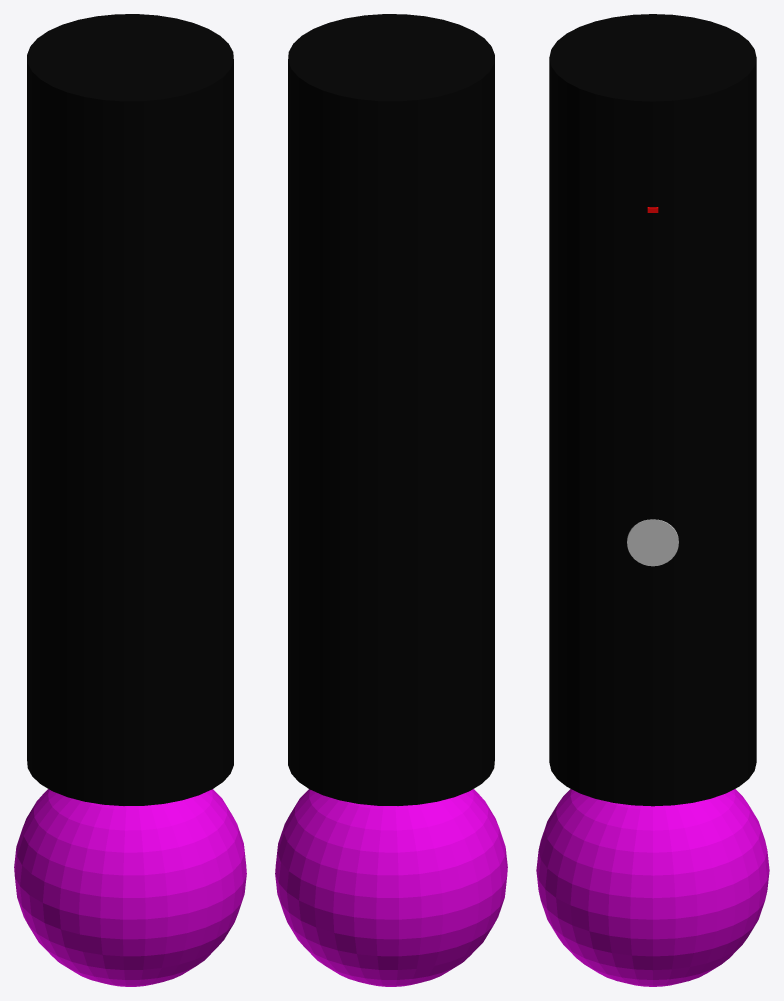
The model's file is PS Move.fbx.
3 renders of one model, left to right at view 1: azimuth 30°, elevation 25°; view 2: azimuth 150°, elevation 25°; view 3: azimuth 270°, elevation 25°, orthographic.
Visible parts, largest first — view 1: Cylinder, Sphere; view 2: Cylinder, Sphere; view 3: Cylinder, Sphere, Cylinder.001.
Part boxes in pixels (x1,y1,x2,y2): Cylinder: [27, 14, 233, 805]; Sphere: [14, 789, 246, 986]; Cylinder: [288, 14, 494, 805]; Sphere: [275, 789, 507, 986]; Cylinder: [549, 14, 756, 806]; Sphere: [536, 789, 769, 986]; Cylinder.001: [627, 519, 678, 566].
Size of the model in its own units: 4.5 by 19.55 by 4.5.
